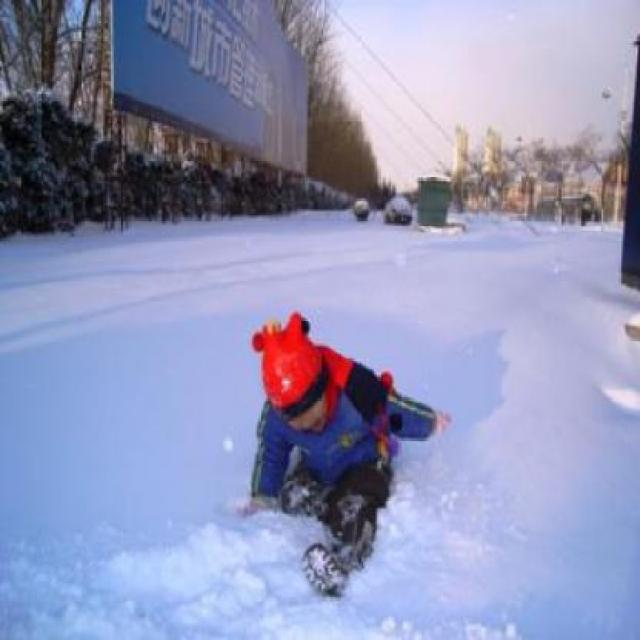fall: (227, 291, 458, 604)
